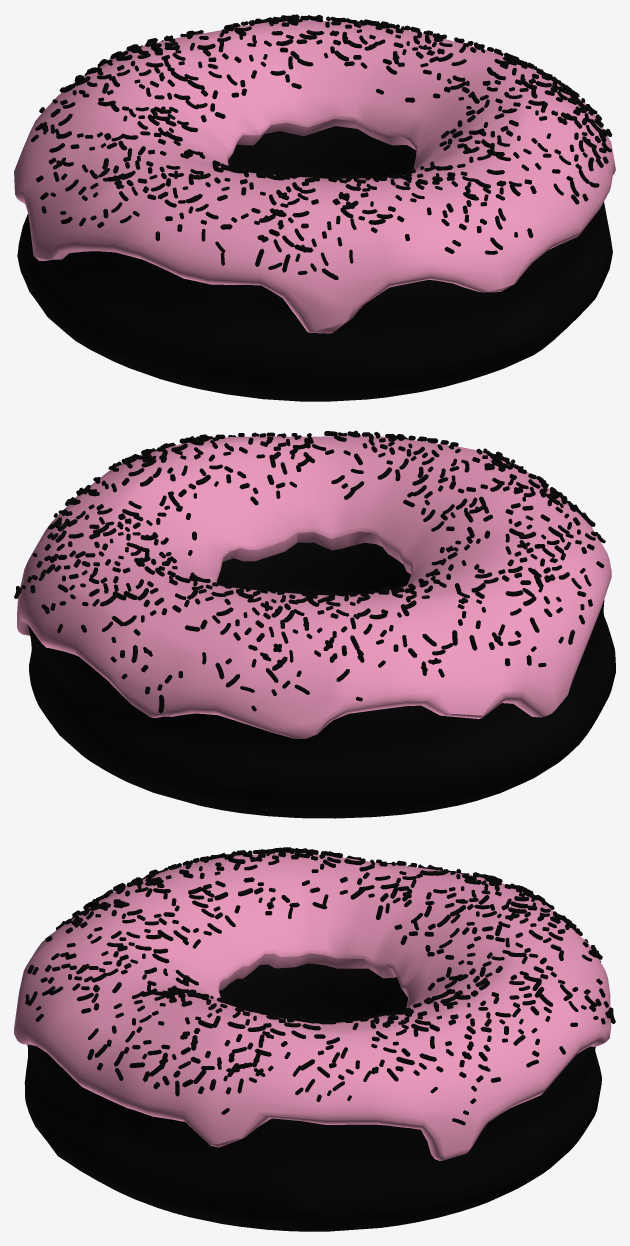
Rendered from Donat.fbx.
3 views of the same model, one above another, from view 1: azimuth 30°, elevation 25°; view 2: azimuth 150°, elevation 25°; view 3: azimuth 270°, elevation 25° (orthographic).
Parts seen in each view (by area): view 1: Donut1; view 2: Donut1; view 3: Donut1.
Part boxes in pixels (bbox=[...]): Donut1: bbox=[14, 14, 615, 401]; Donut1: bbox=[14, 430, 615, 818]; Donut1: bbox=[14, 847, 615, 1231].
Size of the model in its own units: 22.48 by 8.49 by 23.
